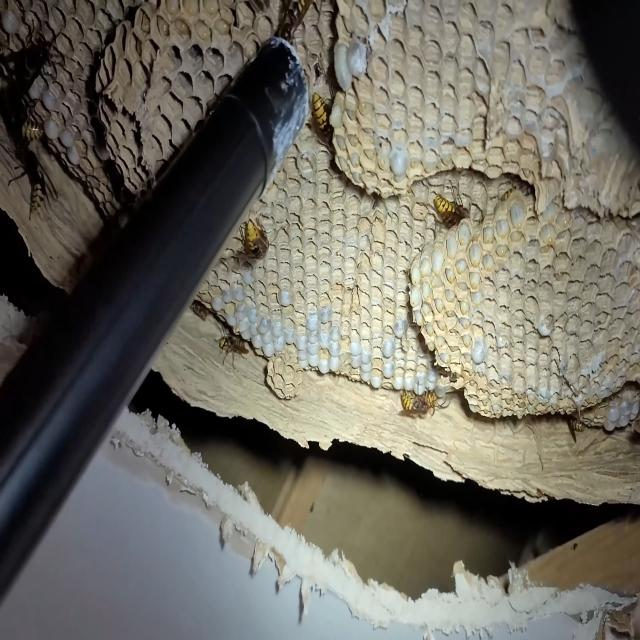Hornets: (396, 378, 450, 420), (215, 320, 249, 367)
